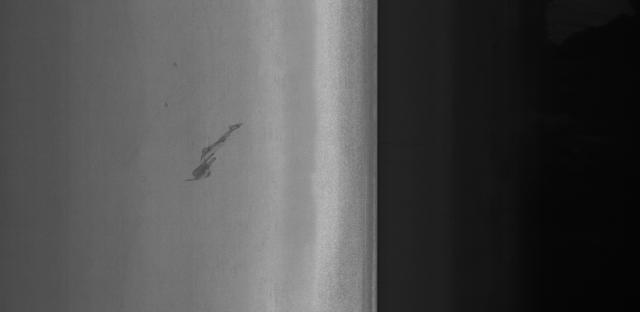water_spot: (181, 118, 251, 190)
